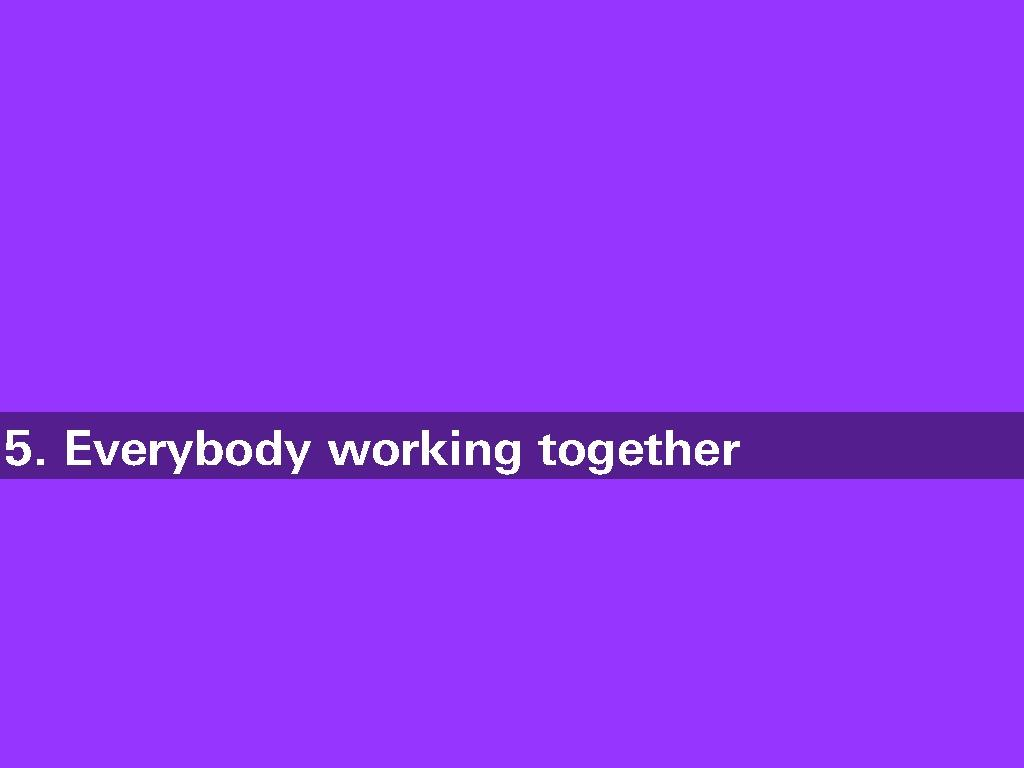title: (1, 409, 753, 481)
